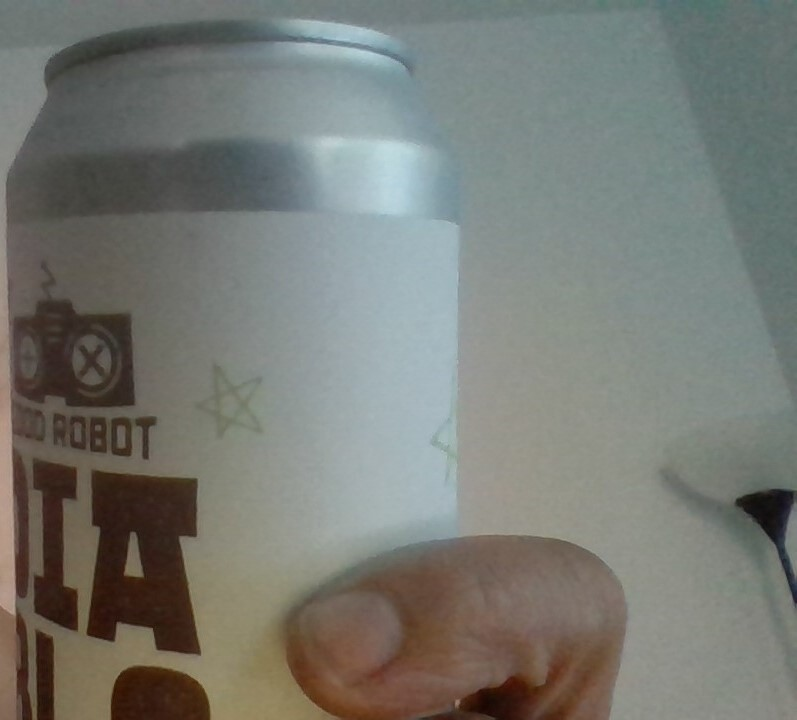Good Robot: (5, 258, 159, 408)
